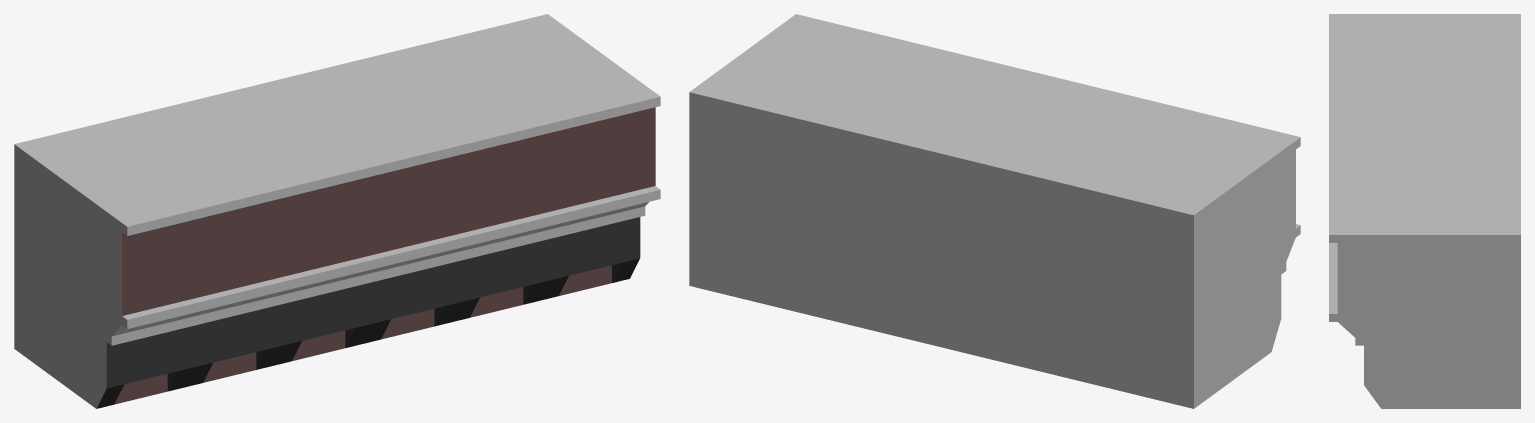
The model's file is RoofTile1.fbx.
The picture shows the model from 3 angles, left to right: view 1: azimuth 30°, elevation 25°; view 2: azimuth 150°, elevation 25°; view 3: azimuth 270°, elevation 25°; orthographic projection. The views are drawn at different scales.
Visible parts, largest first — view 1: Tile6; view 2: Tile6; view 3: Tile6.
Boxes of the visible parts, x1,y1,x2,y2 form: Tile6: (14,14,660,408); Tile6: (689,14,1300,408); Tile6: (1329,14,1520,408).
Bounding box in the file's own units: 3 × 1.1 × 1.1.
